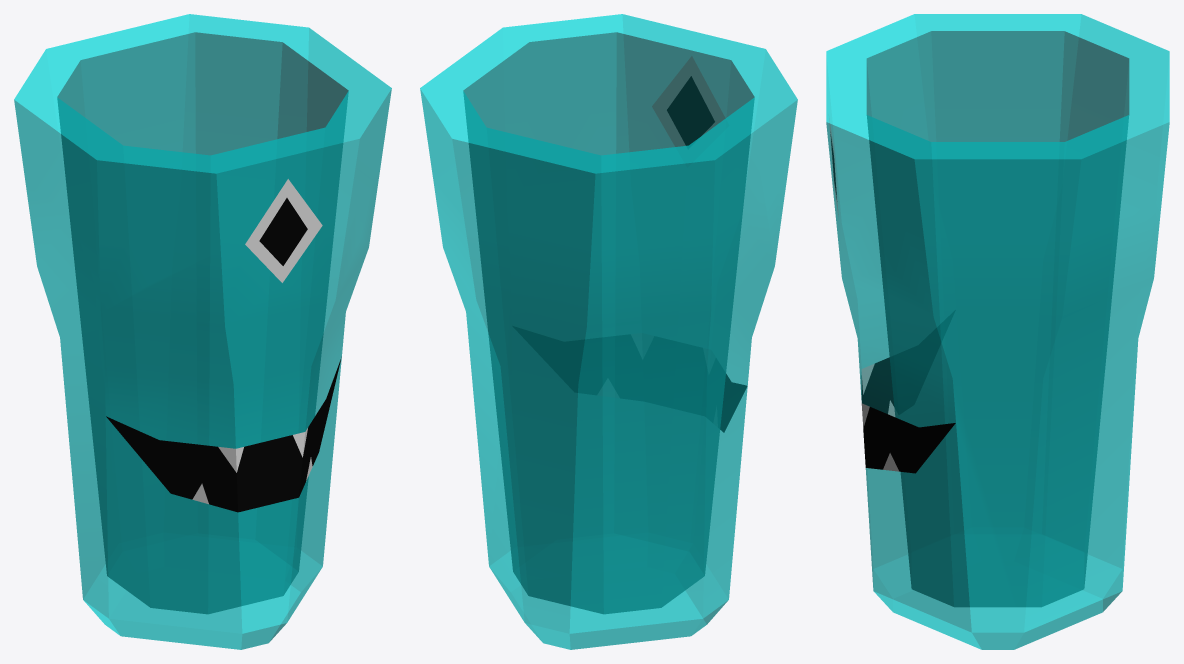
Rendered from CubileteHantuEnemigo.fbx.
3 renders of one model, left to right at view 1: azimuth 30°, elevation 25°; view 2: azimuth 150°, elevation 25°; view 3: azimuth 270°, elevation 25°, orthographic.
Visible parts, largest first — view 1: cubileteREnemigo.001; view 2: cubileteREnemigo.001; view 3: cubileteREnemigo.001.
Boxes of the visible parts, x1,y1,x2,y2 form: cubileteREnemigo.001: (14, 14, 391, 649); cubileteREnemigo.001: (420, 14, 797, 649); cubileteREnemigo.001: (826, 14, 1169, 649).
Size of the model in its own units: 42 by 70 by 42.
